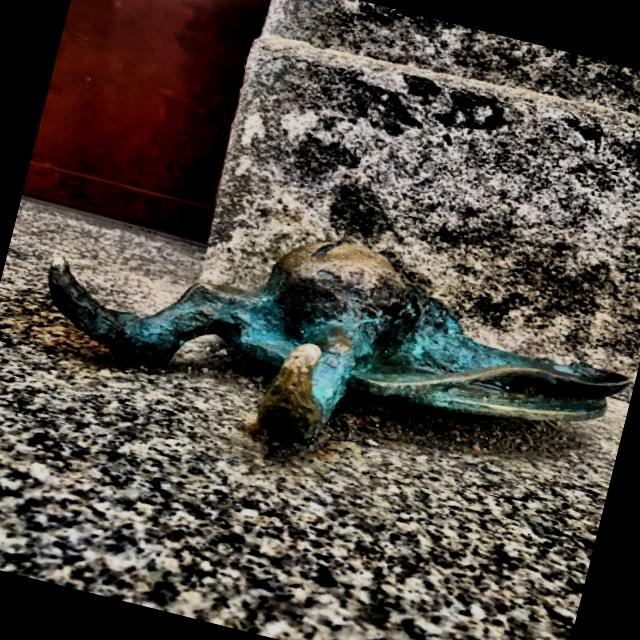Obiezysmak: (47, 237, 631, 447)
